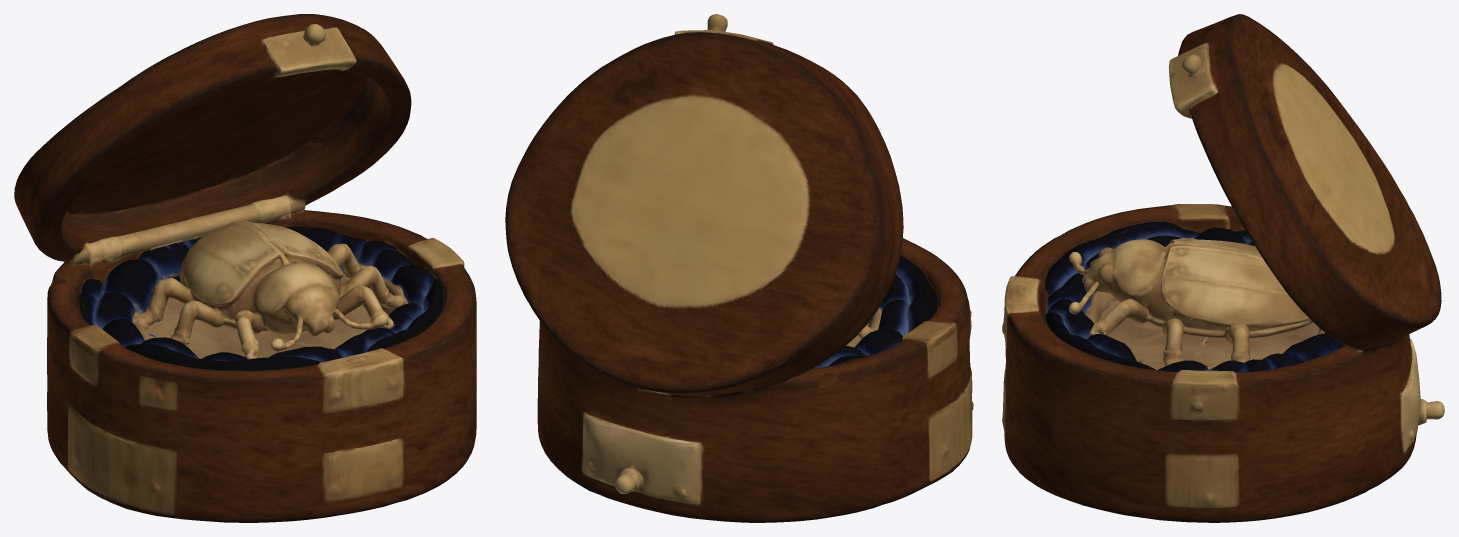
File: generation_compass_2.glb
The picture shows the model from 3 angles, left to right: view 1: azimuth 30°, elevation 25°; view 2: azimuth 150°, elevation 25°; view 3: azimuth 270°, elevation 25°; orthographic projection.
Parts seen in each view (by area): view 1: geometry_0; view 2: geometry_0; view 3: geometry_0.
Part boxes in pixels (x1,y1,x2,y2): geometry_0: [14, 14, 476, 522]; geometry_0: [505, 14, 973, 522]; geometry_0: [1002, 14, 1444, 522].
Size of the model in its own units: 0.9796 by 1 by 0.9965.
1 material, 1 textured.
